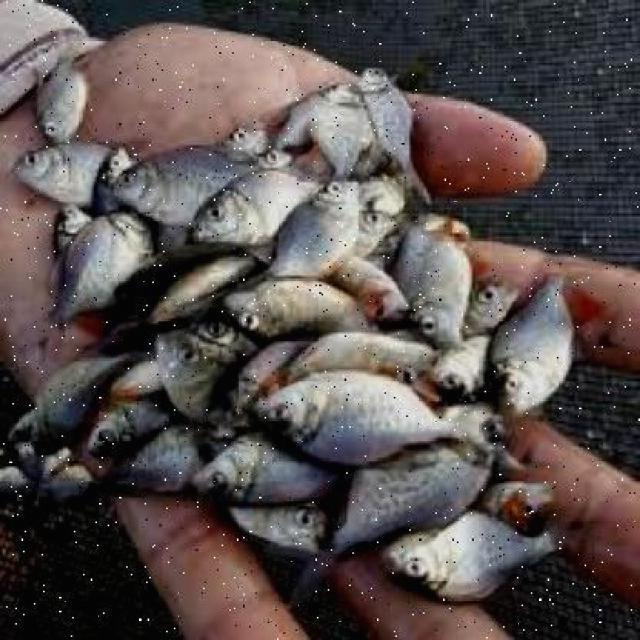ikan-pacu: (322, 440, 484, 562), (380, 512, 558, 606), (265, 372, 449, 462), (487, 269, 590, 411), (191, 161, 307, 254), (396, 214, 475, 338), (270, 182, 367, 270)
